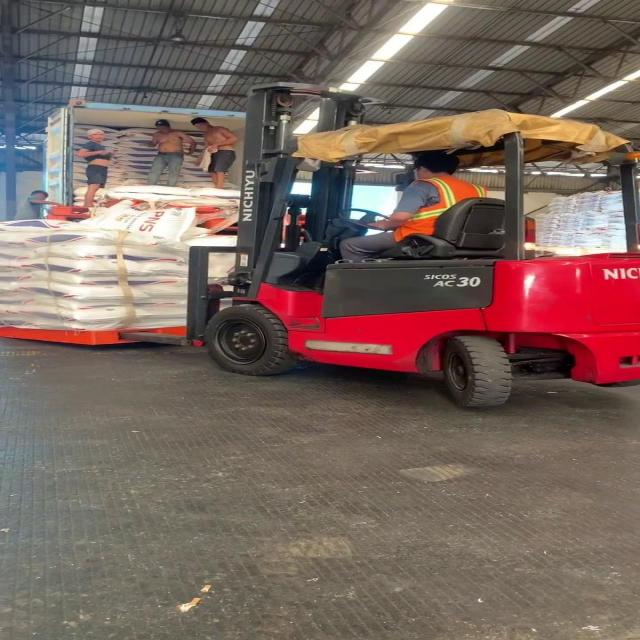forklift: (214, 82, 640, 414)
person: (358, 152, 492, 262), (520, 182, 639, 260)
